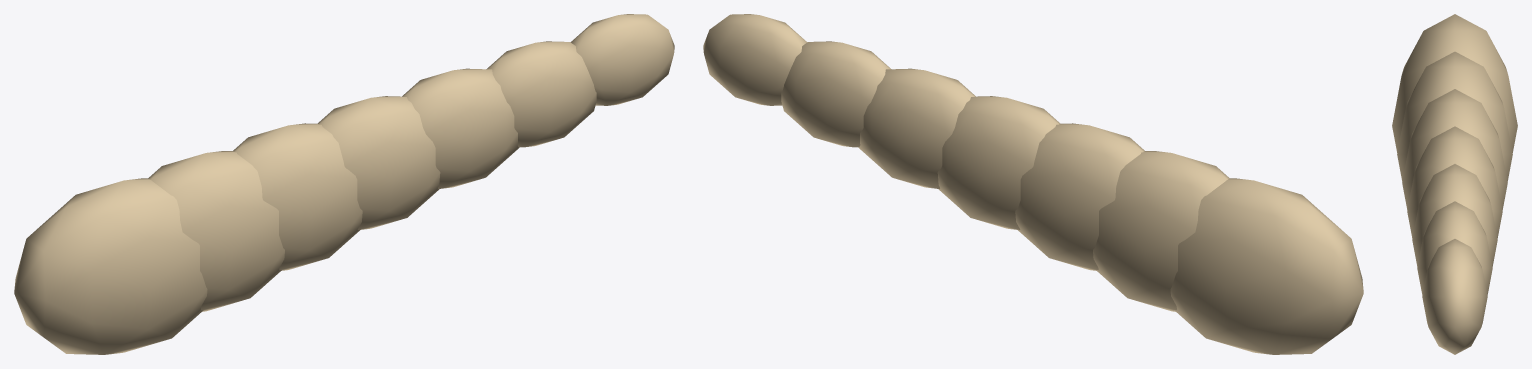
File: shell.glb
3 views of the same model, side by side, from view 1: azimuth 30°, elevation 25°; view 2: azimuth 150°, elevation 25°; view 3: azimuth 270°, elevation 25° (orthographic). The views are drawn at different scales.
Parts seen in each view (by area): view 1: shell; view 2: shell; view 3: shell.
Boxes of the visible parts, x1=… form: shell: x1=14, y1=14, x2=674, y2=354; shell: x1=703, y1=14, x2=1363, y2=354; shell: x1=1392, y1=14, x2=1517, y2=354.
Size of the model in its own units: 1.2 by 0.378 by 0.18.
